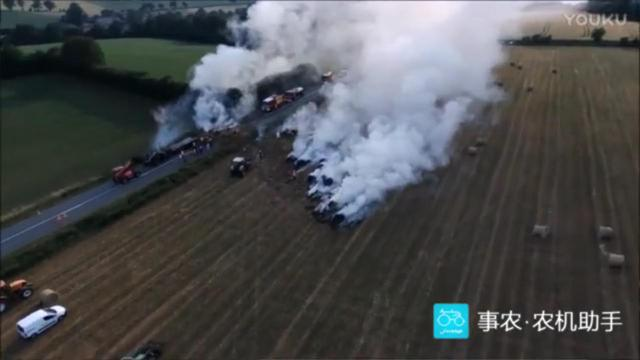smoke: (246, 4, 514, 44), (322, 72, 490, 130), (325, 131, 453, 195), (264, 45, 512, 71), (194, 44, 262, 128), (286, 108, 326, 156), (321, 196, 369, 226), (152, 108, 188, 146)
